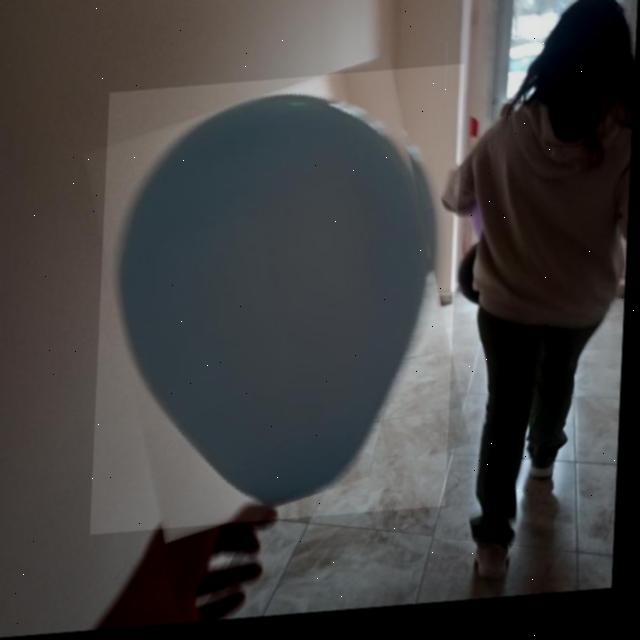balloon: (95, 72, 465, 537)
